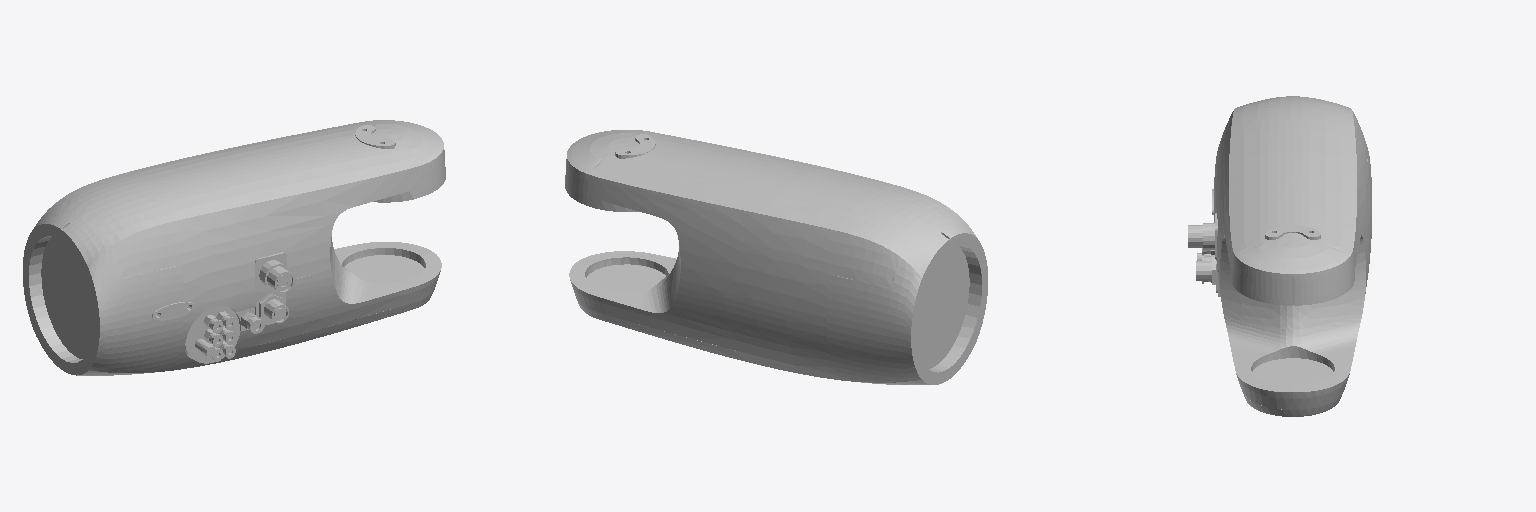
File: kuka_5.obj
3 renders of one model, left to right at view 1: azimuth 30°, elevation 25°; view 2: azimuth 150°, elevation 25°; view 3: azimuth 270°, elevation 25°, orthographic.
Visible parts, largest first — view 1: 实体1; view 2: 实体1; view 3: 实体1.
Boxes of the visible parts, box(x1,y1,x2,y2) form: 实体1: box(23, 120, 445, 375); 实体1: box(565, 130, 987, 384); 实体1: box(1188, 96, 1371, 416).
Size of the model in its own units: 301 by 134 by 128.